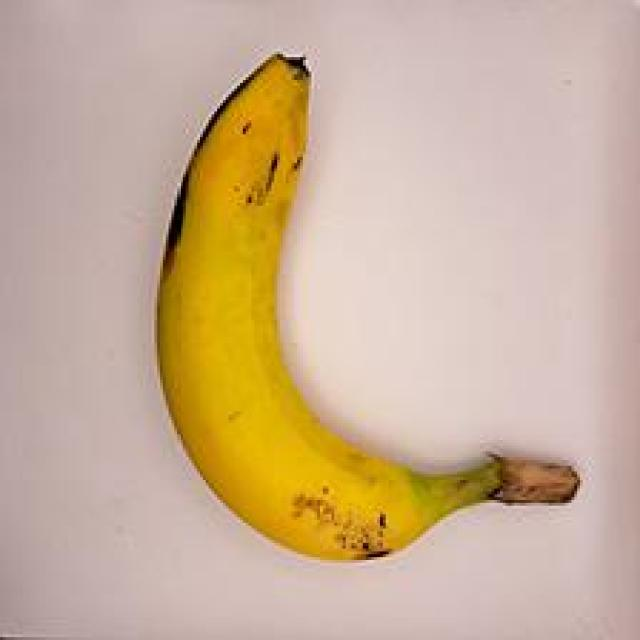ripe: (152, 47, 576, 572)
